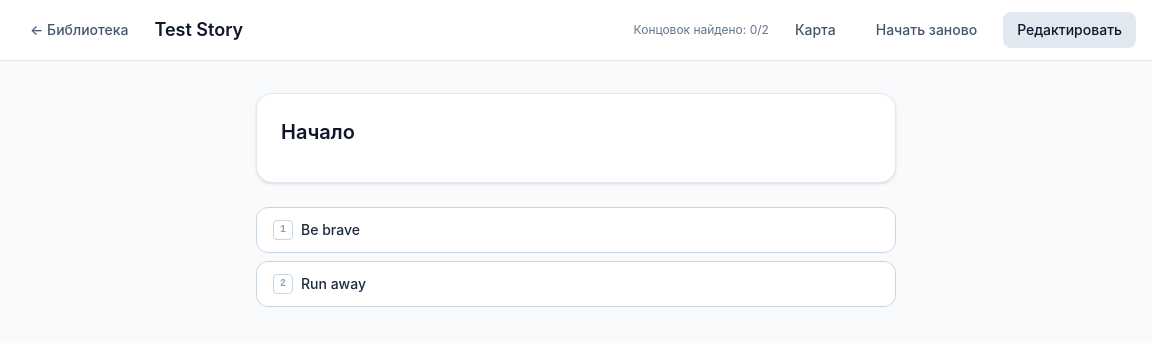
Test: PlayerScreen › shows the ending badge and resets to the start node via "Сыграть заново"
This screenshot has width=1152, height=343.
Click the button "1 Be brave" at (330, 230), box x1=256 y1=207 x2=896 y2=253
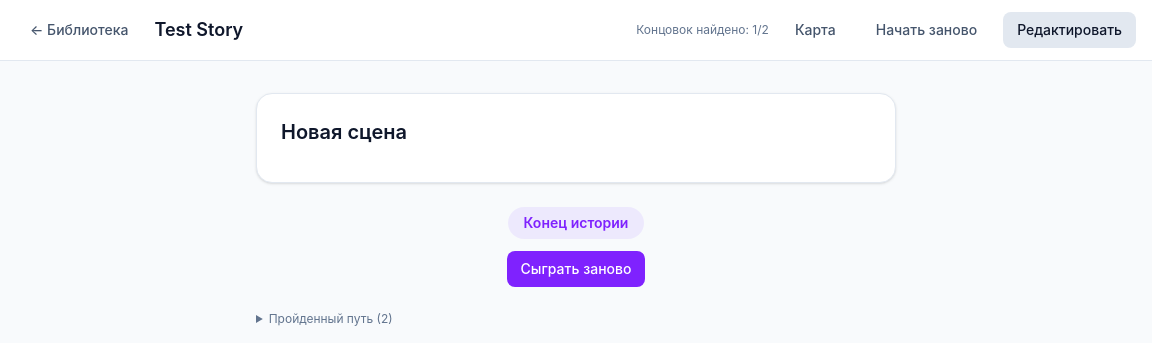
Result: the text "Конец истории" is shown at x1=508 y1=207 x2=644 y2=239
Click the button "Сыграть заново" at (576, 269), box x1=507 y1=251 x2=646 y2=287
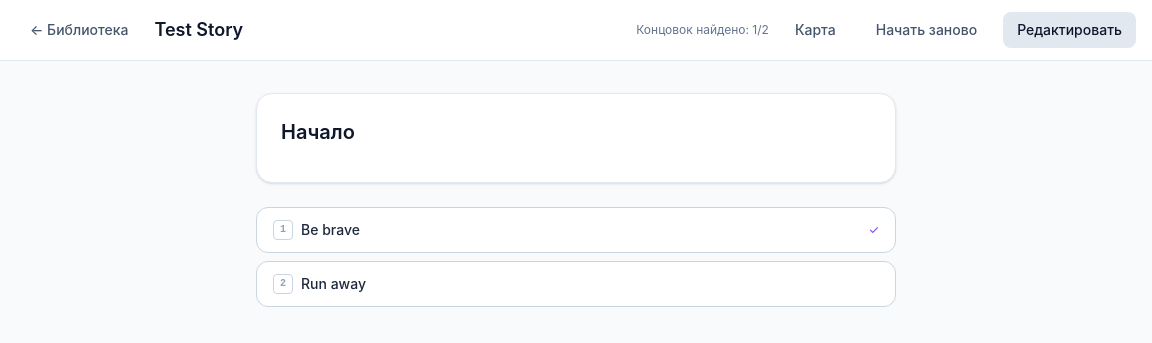
Result: the heading "Начало" is shown at x1=281 y1=120 x2=355 y2=144
Result: the button "1 Be brave ✓" is shown at x1=256 y1=207 x2=896 y2=253
Result: the text "Конец истории" is gone
